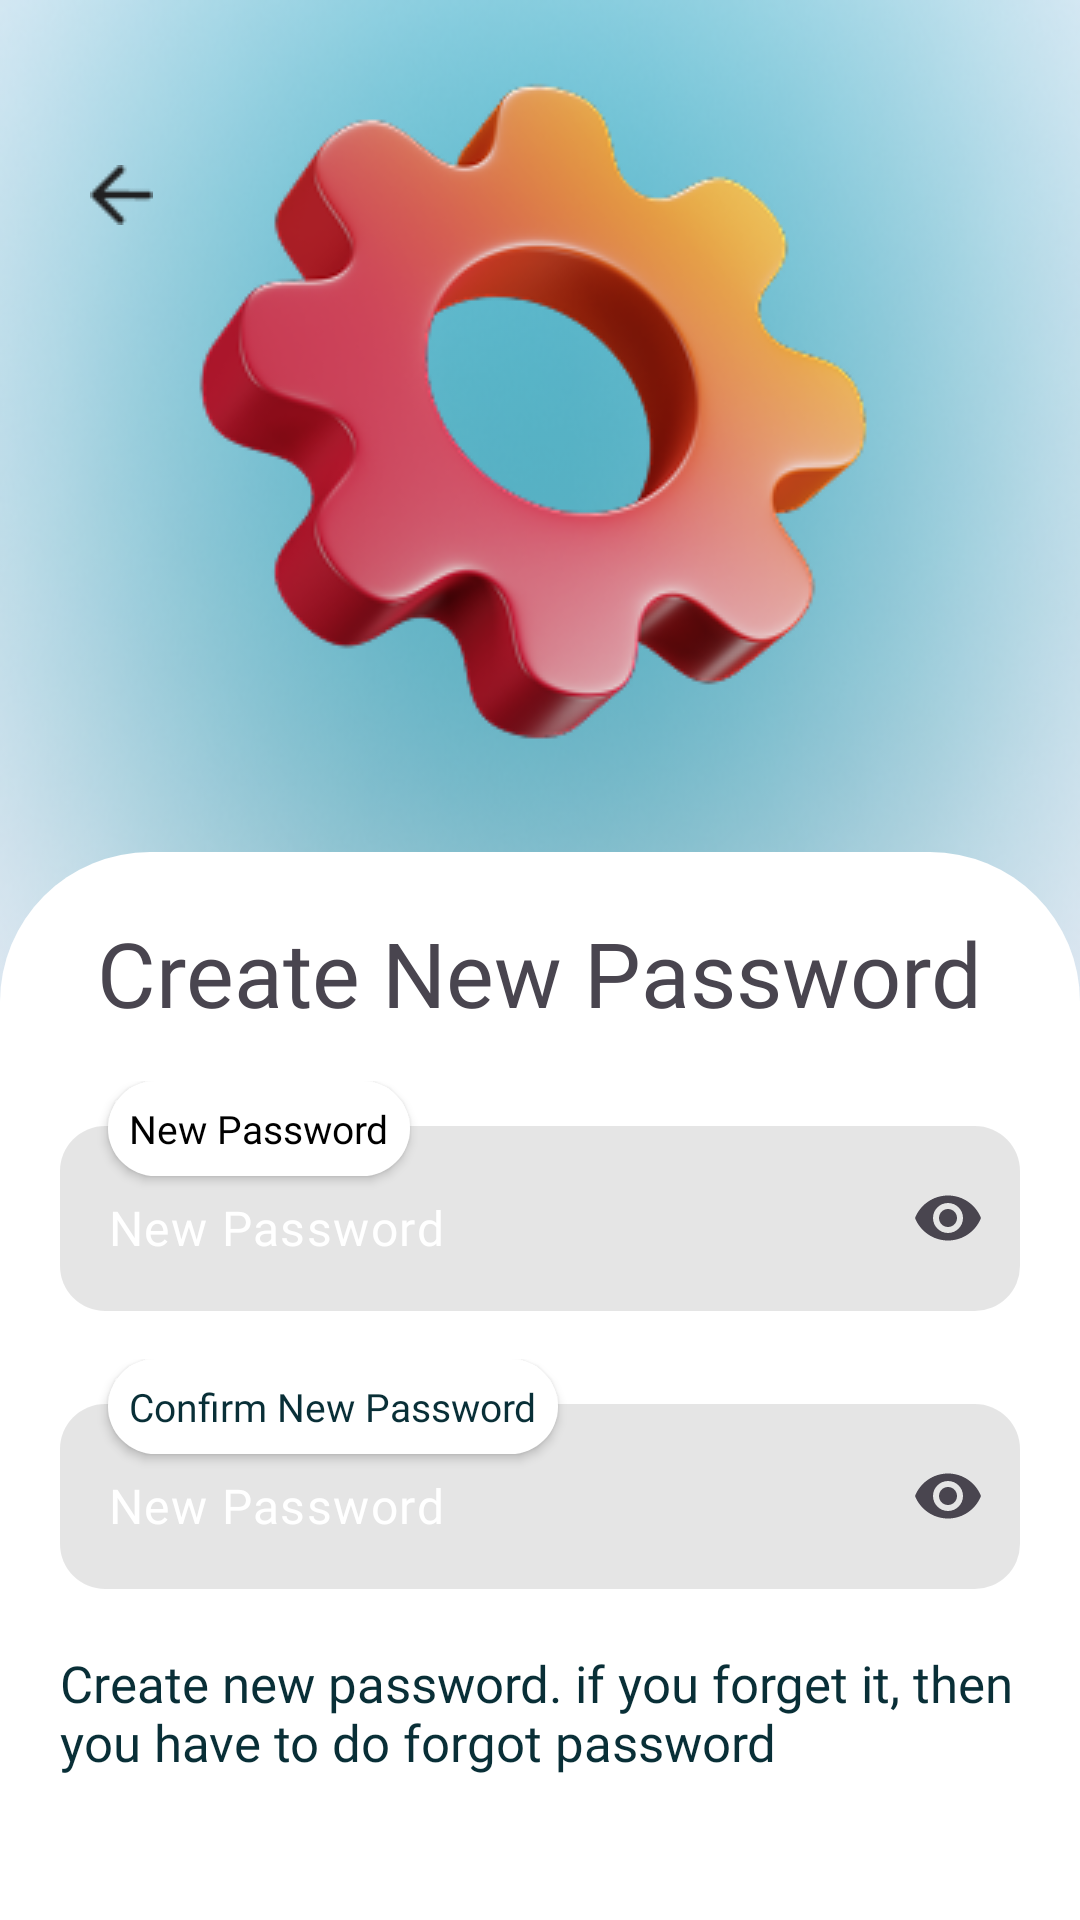

Screen size 1080px×1920px. Icon name, then its center in pixels as (x,y):
back: (121,195)
